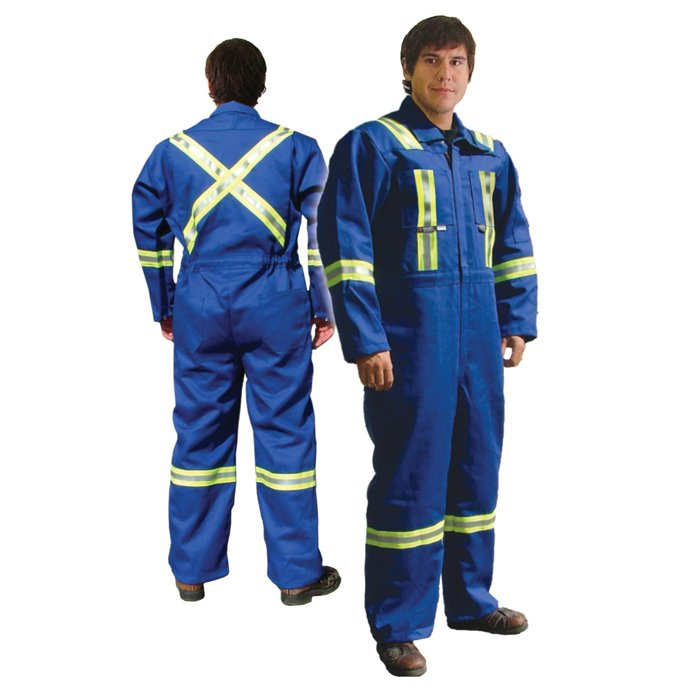noepi: (329, 11, 544, 679), (127, 34, 347, 611)
